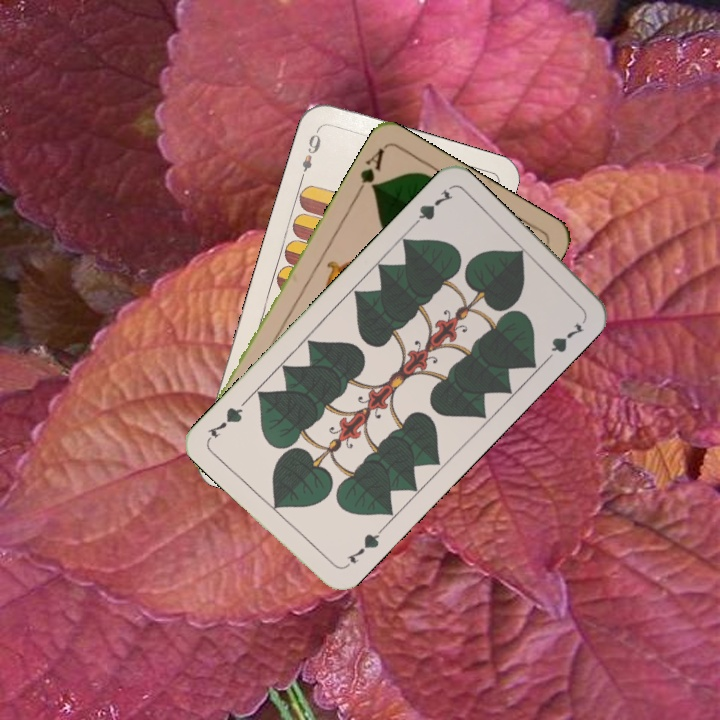E9: (296, 125, 324, 183)
G7: (406, 184, 456, 232), (339, 524, 386, 571)
GA: (352, 144, 388, 199)
